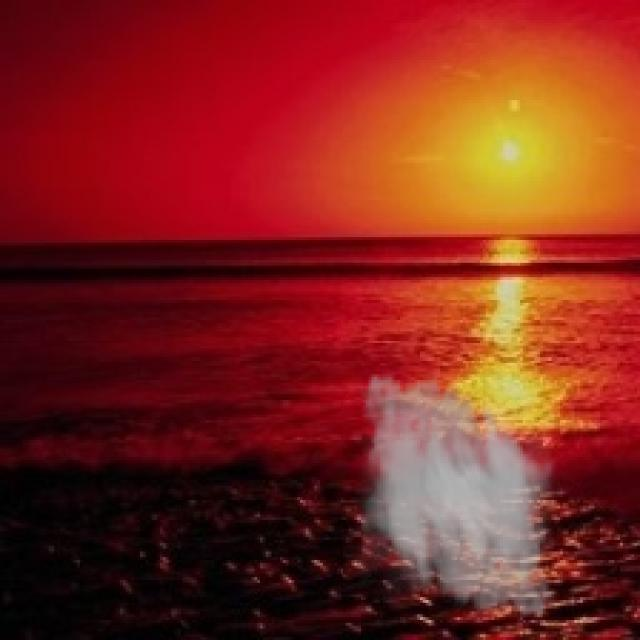Smoke: (343, 362, 566, 628)
